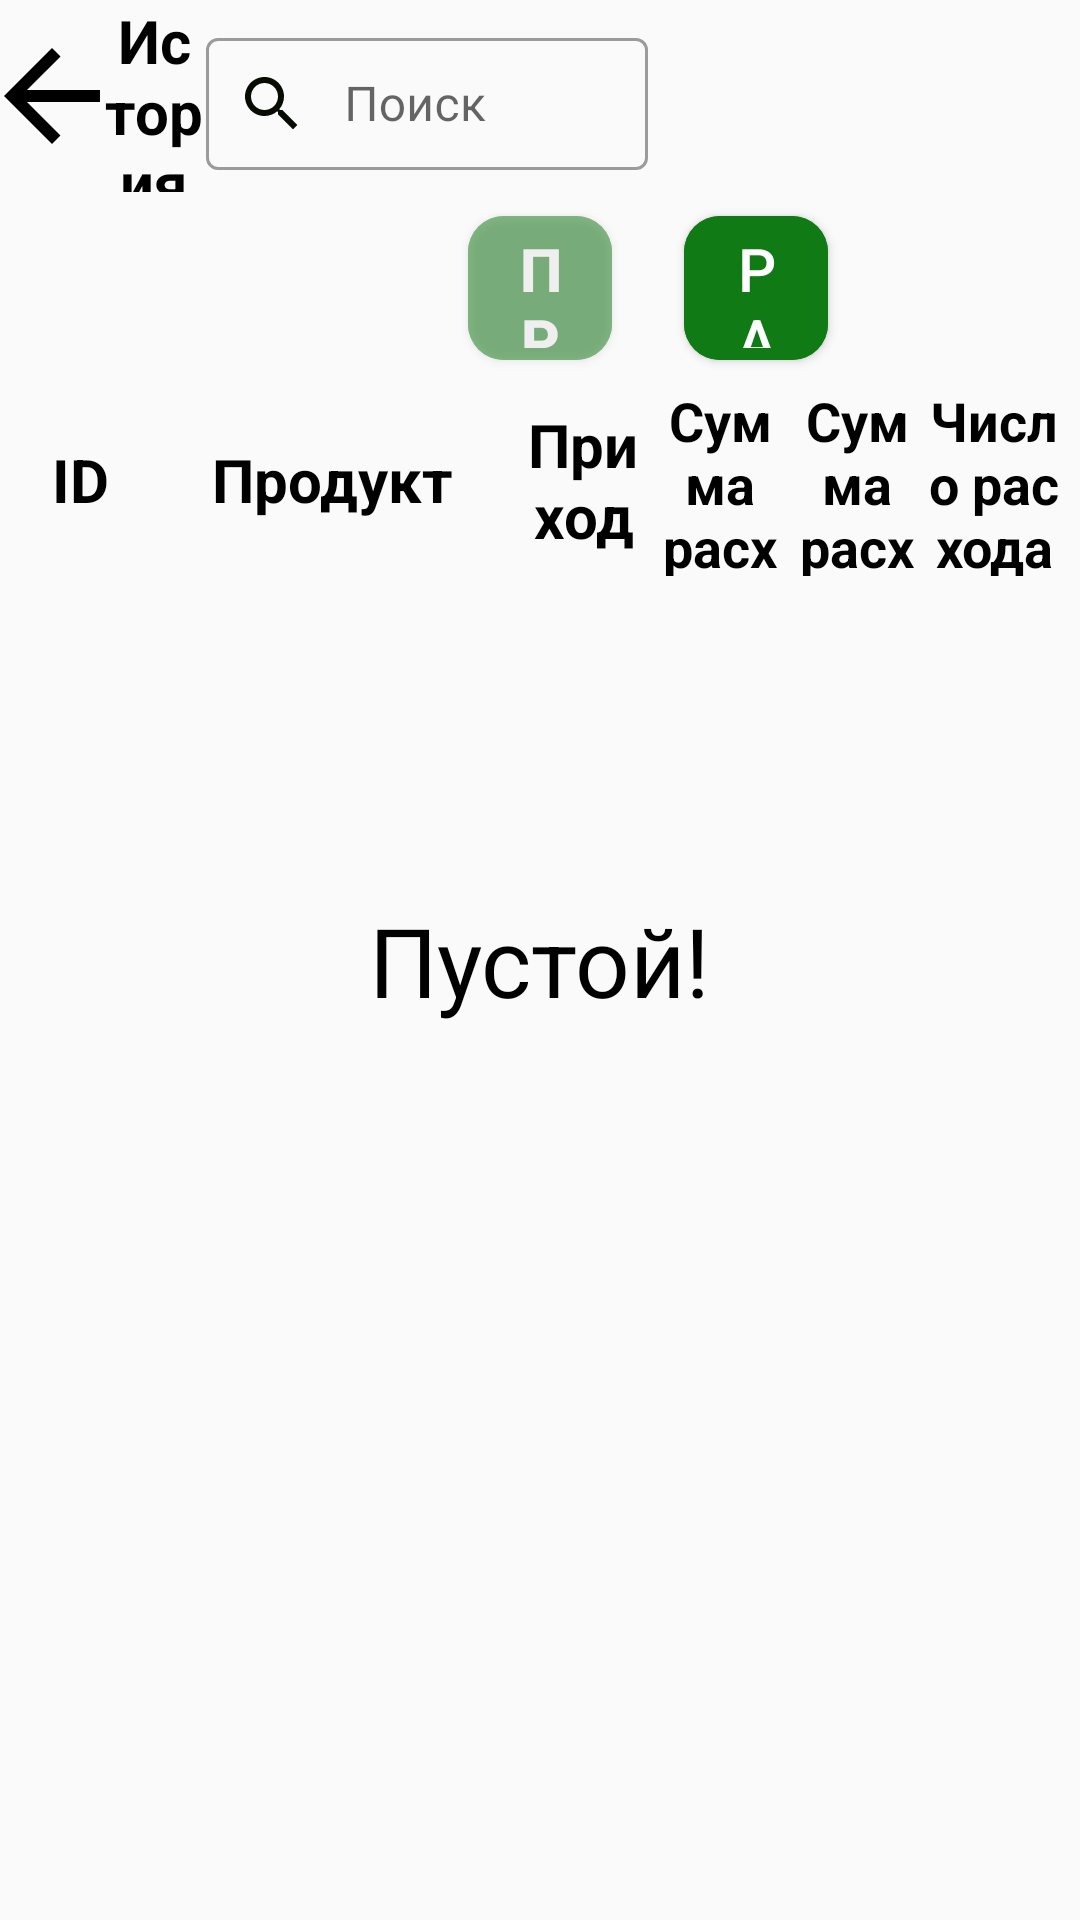

Where icons sit on this 1080px x 1920px app screen, as box(x1, y1, x2, y2):
arrow back: box(4, 48, 100, 144)
